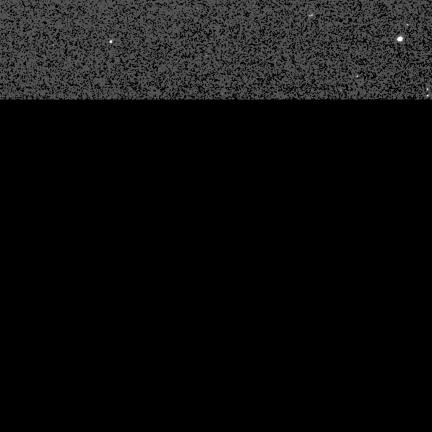blob: (397, 37, 403, 41), (110, 41, 113, 44)
